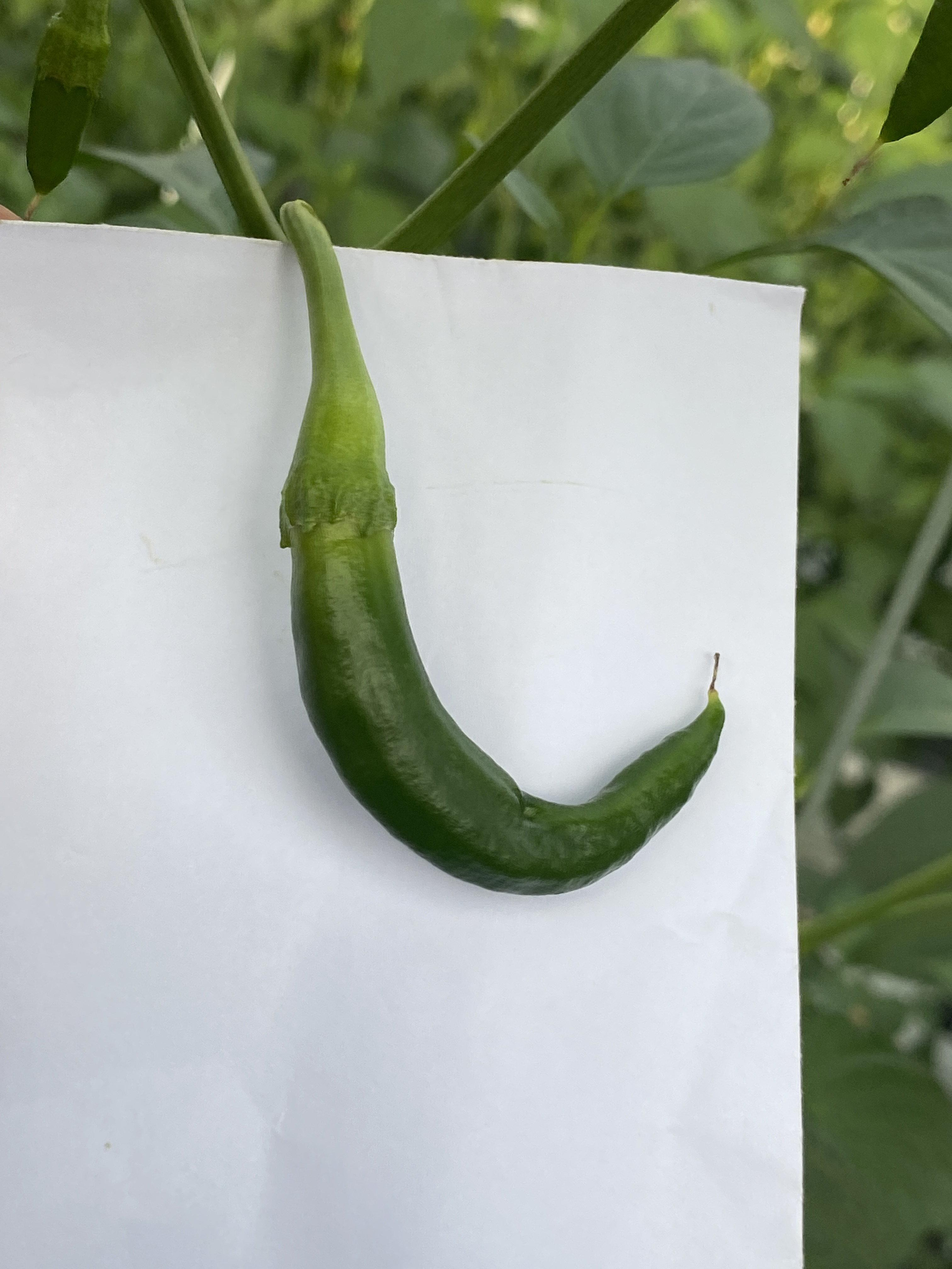Buah Cabai Sehat: (269, 390, 729, 899)
